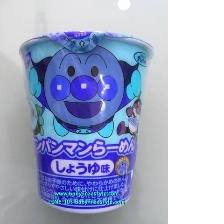paper_cup: (15, 24, 158, 218)
